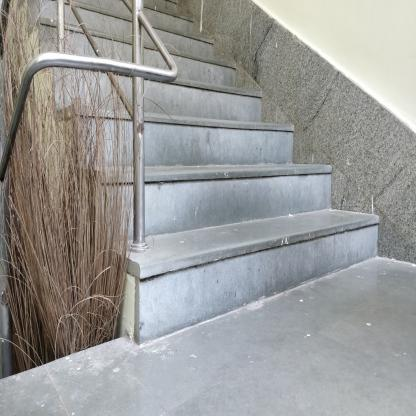stairs: (152, 85, 262, 339)
